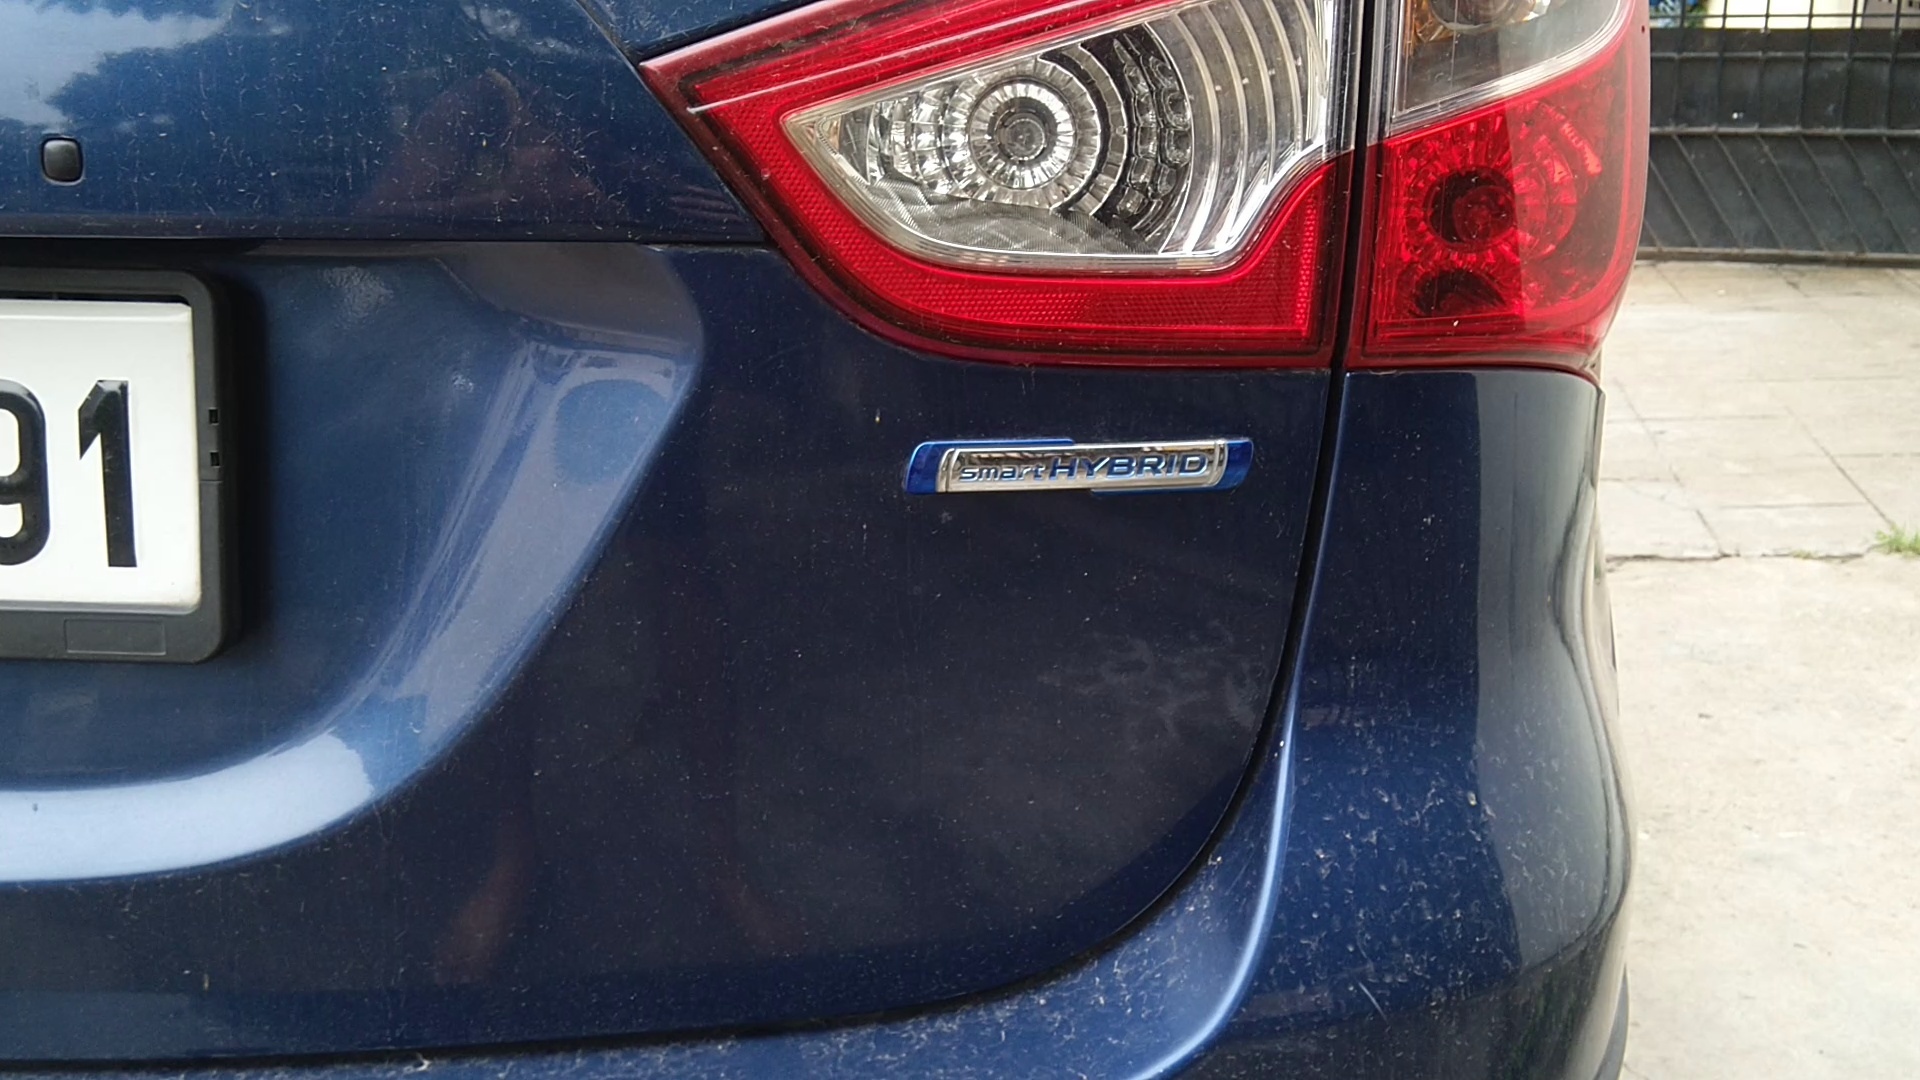shvs: (891, 405, 1279, 543)
